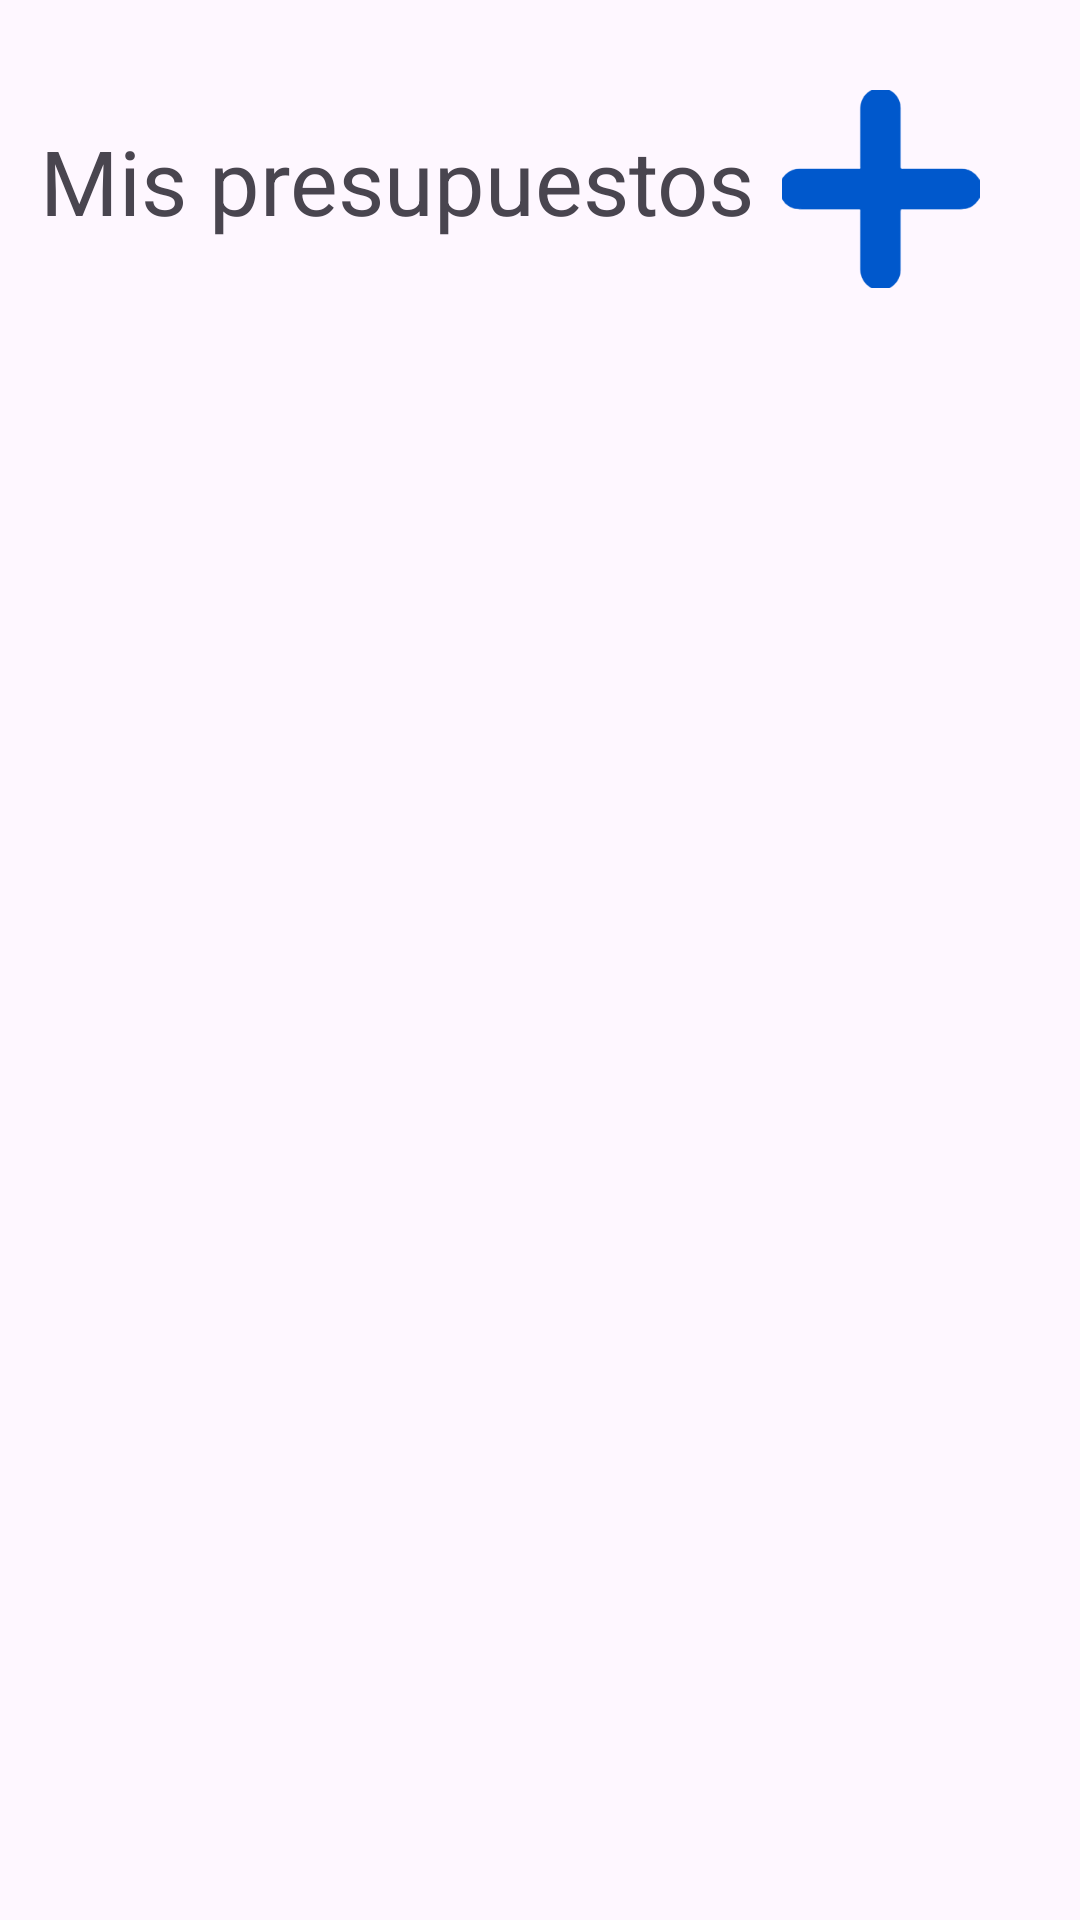

Where to tap for icons on this 1080px×1920px app screen, as point (x, y):
plus: point (881, 189)
